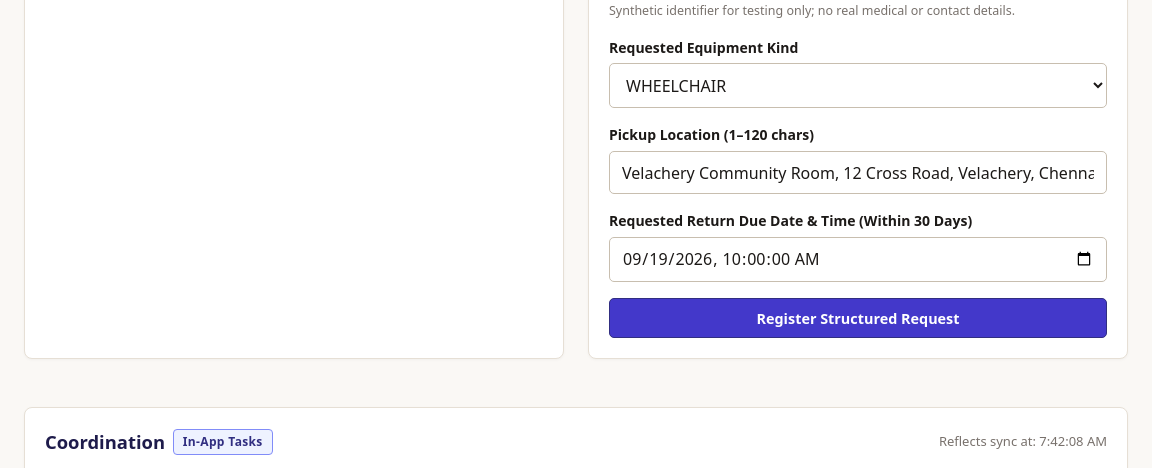
Test: BS-002-R1 Extended Correction Verification › prevents second mutation from overwriting an unresolved uncertain retry
(page scrolled)
Click the button "Register Structured Request".
click(858, 318)  # box [609,298,1107,338]
(page scrolled)
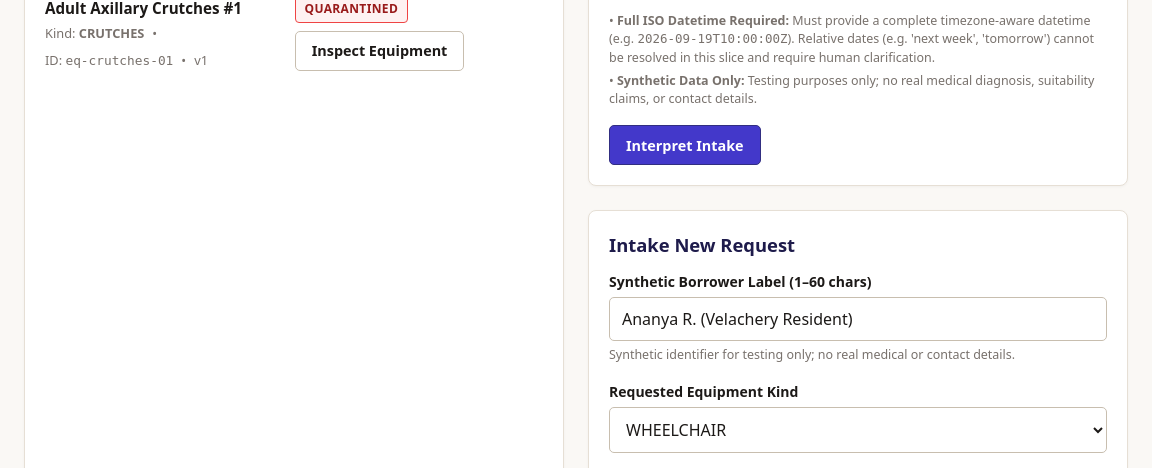
Try to register another request while uncertain retry is unresolved
Replace the text in the field labelled "Synthetic Borrower Label (1–60 chars)" with "Second Attempt (Should Block)" at x=858, y=319, box [609,297,1107,340]
(page scrolled)
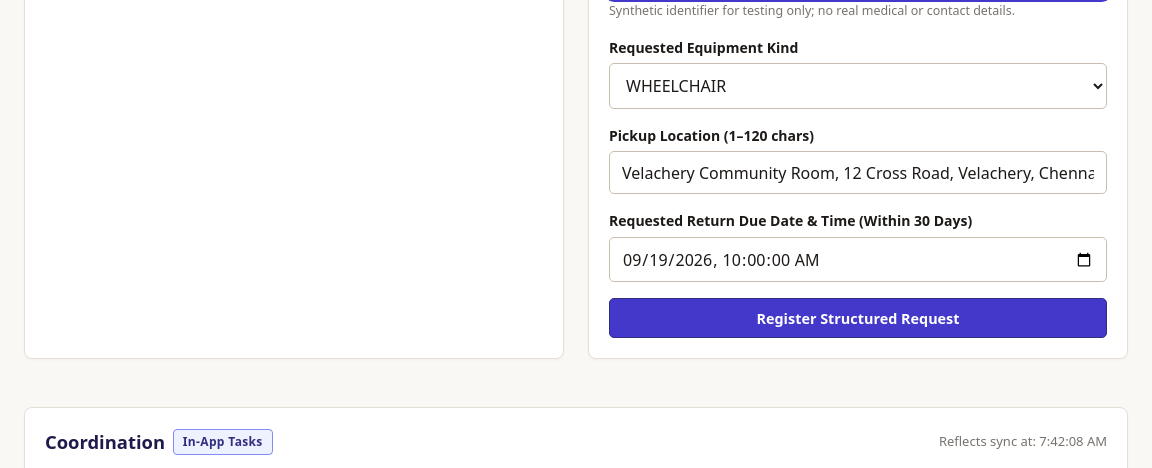
Click the button "Register Structured Request".
click(858, 318)  # box [609,298,1107,338]
(page scrolled)
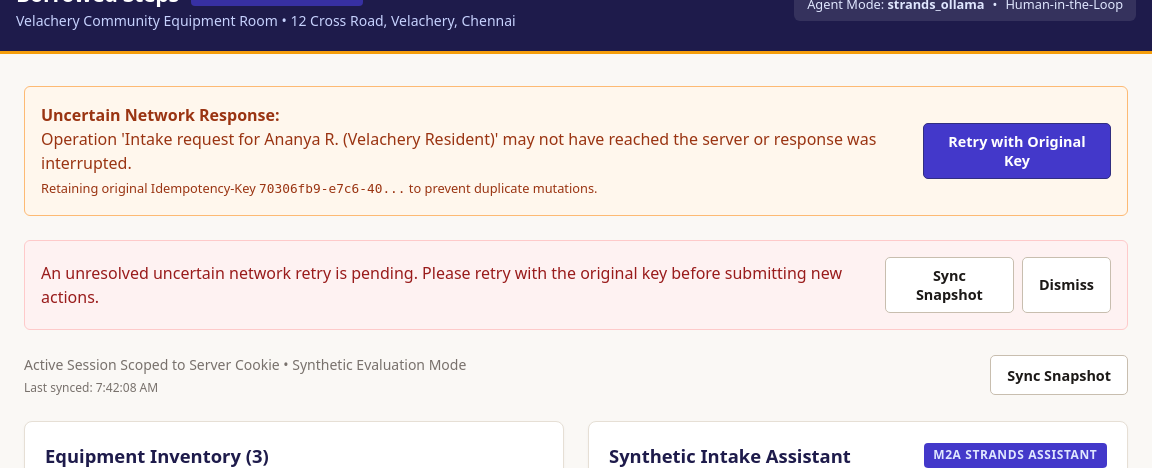
Result: the text "Uncertain Network Response:" is shown at [41,104,280,126]
Result: the text "An unresolved uncertain network retry is pending" is shown at [41,262,842,308]
